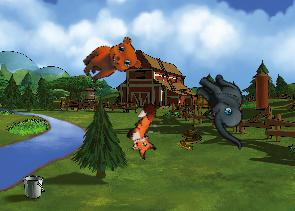bear: (76, 29, 147, 96)
elephant: (179, 67, 267, 150)
fox: (118, 100, 175, 162)
